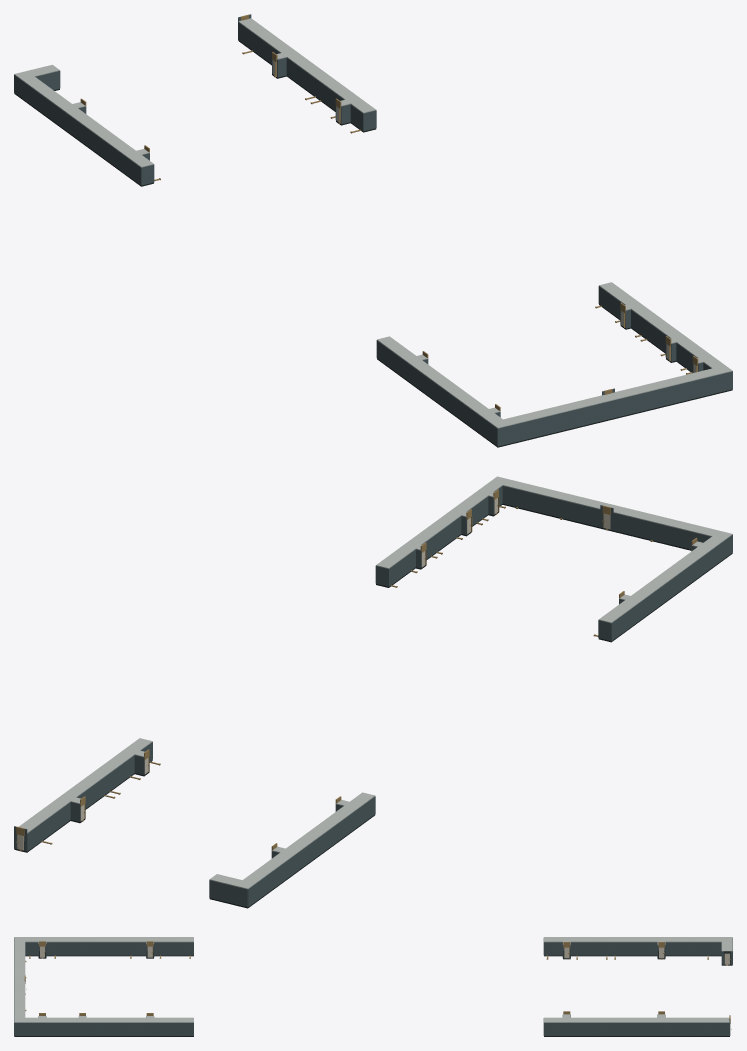
File: D04_PORT_AFT_COURT_ROUTES_r002.glb
The picture shows the model from 3 angles, top to bottom: view 1: azimuth 30°, elevation 25°; view 2: azimuth 150°, elevation 25°; view 3: azimuth 270°, elevation 25°; orthographic projection. The views are drawn at different scales.
Parts seen in each view (by area): view 1: PAR_Roof1, PAR_Wall1_5_0, PAR_Wall0_1_0, PAR_Wall1_2_0, PAR_Roof0, PAR_Roof2, PAR_Wall2_11_0, PAR_Floor1; view 2: PAR_Roof1, PAR_Wall0_1_0, PAR_Wall1_2_0, PAR_Roof0, PAR_Wall1_23_1, PAR_Roof2, PAR_Wall1_23_0, PAR_Wall2_11_0, PAR_Wall2_7_0, PAR_Floor1; view 3: PAR_Roof1, PAR_Wall2_5_0, PAR_Wall1_8_0, PAR_Wall1_28_0, PAR_Roof0, PAR_Wall0_7_0, PAR_Roof2, PAR_Wall0_11_0, PAR_Wall1_0_0, PAR_Floor1, PAR_Floor0, PAR_Wall0_3_0 (+1 smaller).
Boxes of the visible parts, box(x1,y1,x2,y2) form: PAR_Roof1: box(377, 282, 732, 428); PAR_Wall1_5_0: box(510, 374, 719, 443); PAR_Wall0_1_0: box(14, 74, 141, 184); PAR_Wall1_2_0: box(376, 340, 489, 440); PAR_Roof0: box(14, 64, 153, 167); PAR_Roof2: box(238, 18, 375, 113); PAR_Wall2_11_0: box(286, 58, 344, 110); PAR_Floor1: box(377, 304, 732, 447); PAR_Roof1: box(376, 476, 732, 623); PAR_Wall0_1_0: box(248, 796, 375, 906); PAR_Wall1_2_0: box(611, 540, 725, 640); PAR_Roof0: box(209, 792, 375, 889); PAR_Wall1_23_1: box(502, 486, 603, 527); PAR_Roof2: box(19, 738, 152, 833); PAR_Wall1_23_0: box(611, 512, 711, 549); PAR_Wall2_11_0: box(77, 755, 134, 808); PAR_Wall2_7_0: box(27, 802, 70, 851); PAR_Floor1: box(376, 504, 732, 642); PAR_Roof1: box(14, 937, 193, 1022); PAR_Wall2_5_0: box(544, 1022, 729, 1035); PAR_Wall1_8_0: box(25, 1022, 193, 1035); PAR_Wall1_28_0: box(46, 942, 145, 955); PAR_Roof0: box(544, 937, 732, 951); PAR_Wall0_7_0: box(571, 942, 657, 955); PAR_Roof2: box(544, 1014, 729, 1022); PAR_Wall0_11_0: box(665, 942, 721, 955); PAR_Wall1_0_0: box(154, 942, 193, 955); PAR_Floor1: box(14, 951, 193, 1036); PAR_Floor0: box(544, 951, 732, 965); PAR_Wall0_3_0: box(544, 942, 562, 955).
Size of the model in its own units: 44.32 by 4.22 by 158.
Materials: 7 (7 with a texture image).
